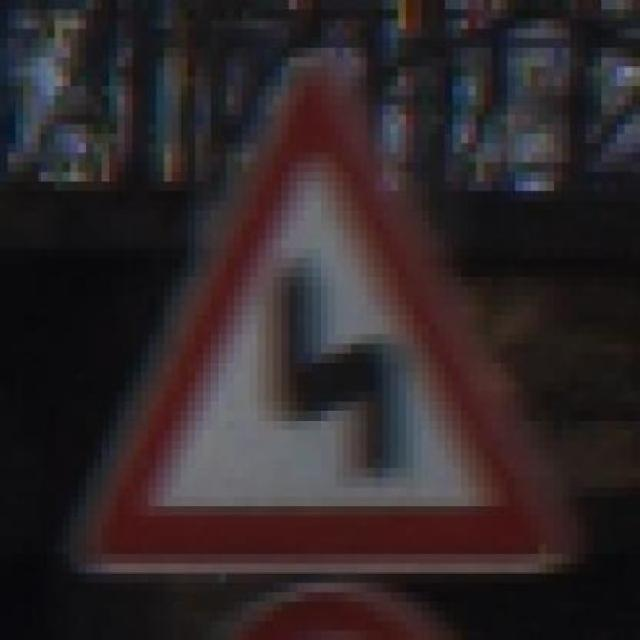Left Zig Zag Traffic: (55, 57, 578, 574)
